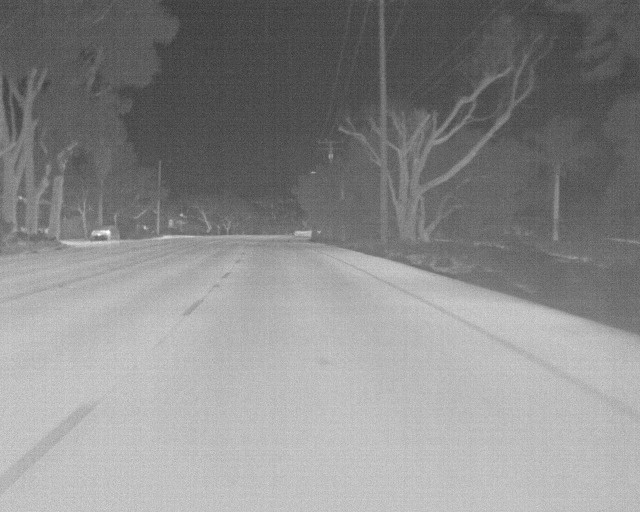vehicle: (91, 224, 120, 243)
